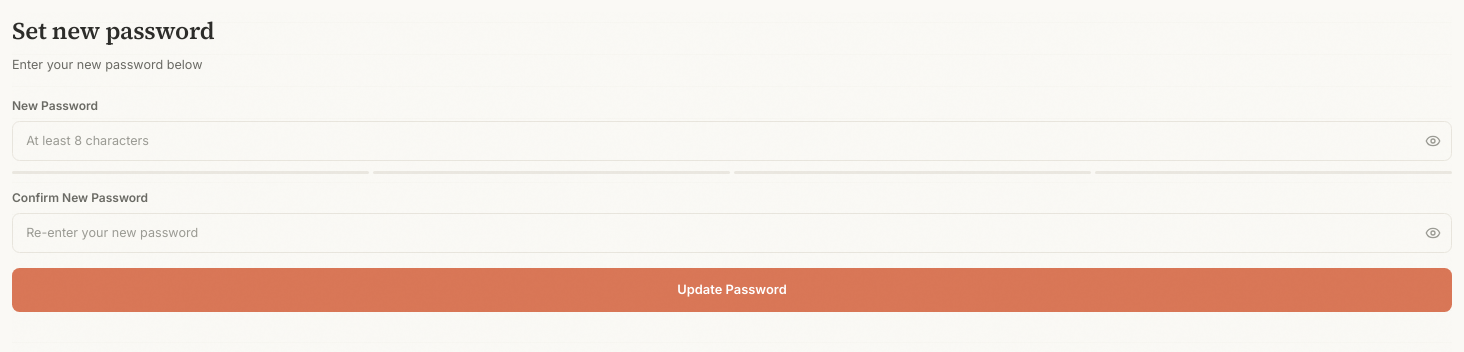
Scenario: UpdatePasswordForm › enforces minimum password length
The width and height of the screenshot is (1464, 352).
Type "short" into the password field with placeholder "At least 8 characters" at (732, 141), box x1=12 y1=121 x2=1452 y2=161
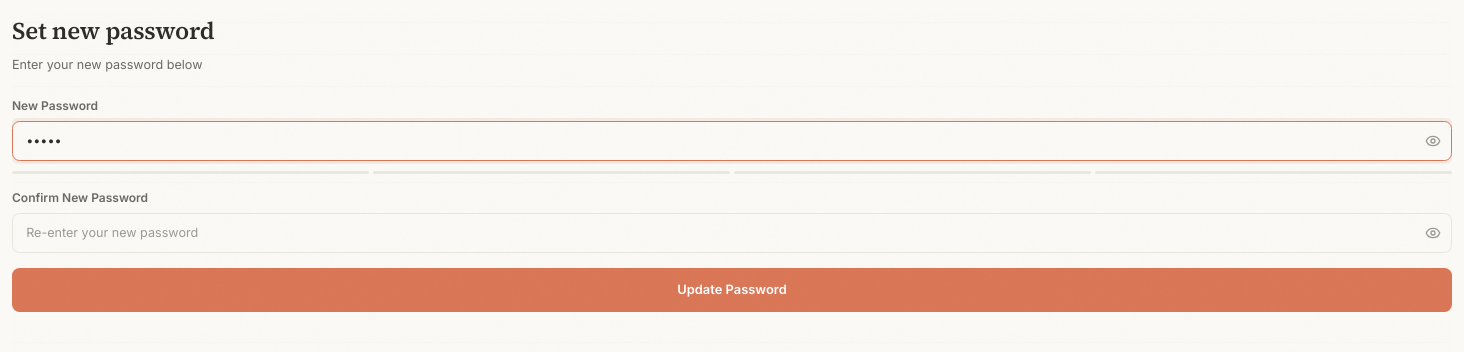
Type "short" into the password field with placeholder "Re-enter your new password" at (732, 233), box x1=12 y1=213 x2=1452 y2=253
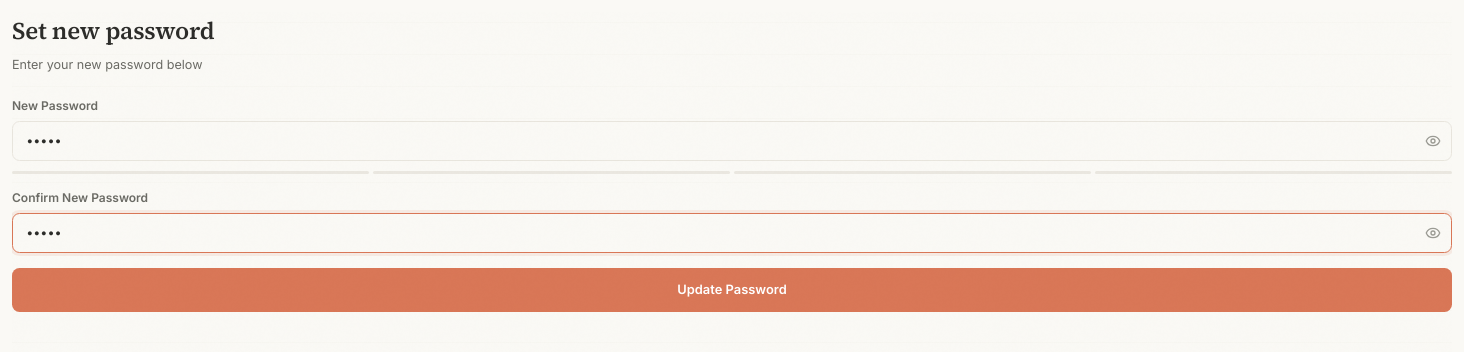
Click the button "Update Password" at (732, 290), box x1=12 y1=268 x2=1452 y2=312
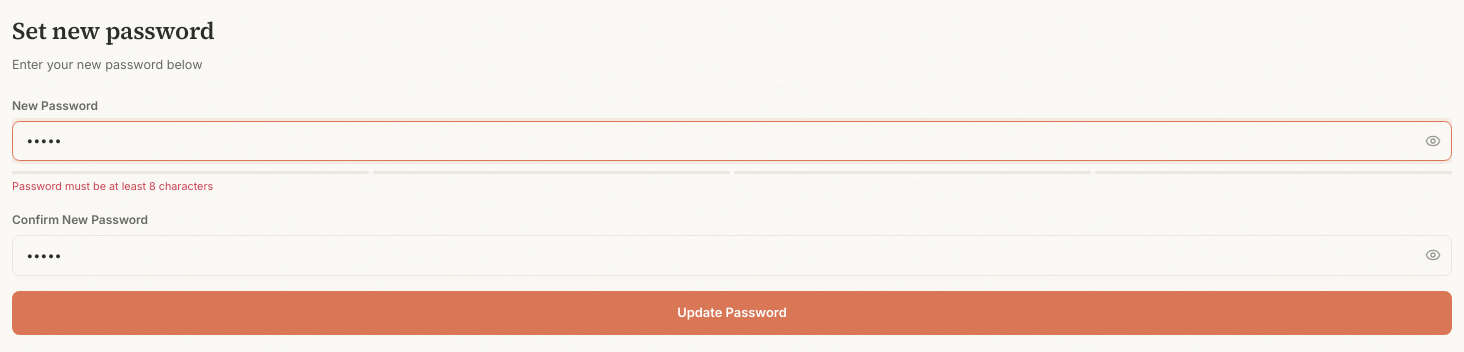
Check: the text "Password must be at least 8 characters" is shown, box x1=12 y1=180 x2=213 y2=193
